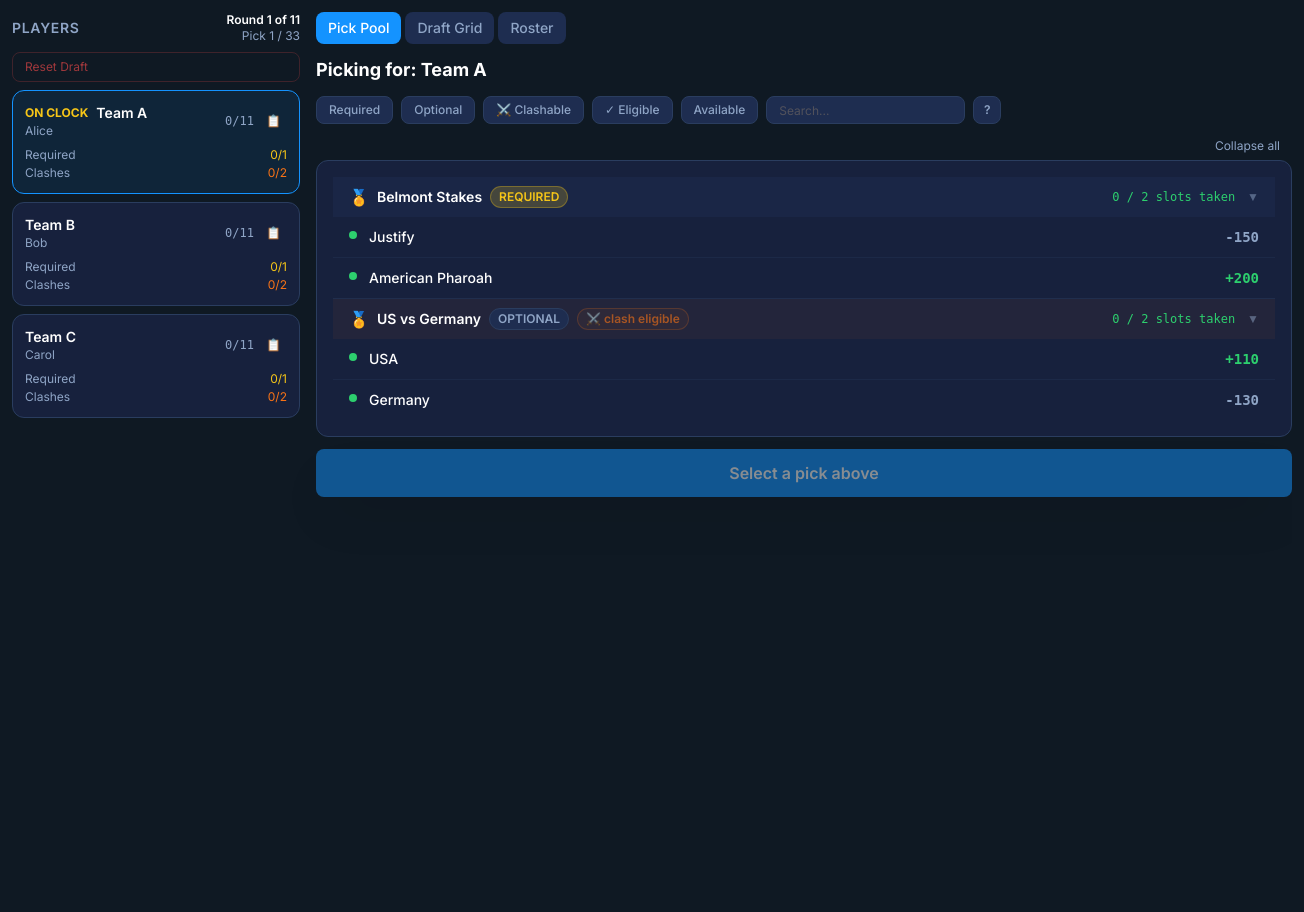
Test: DraftBoard › clicking roster button switches to roster tab for that player
Note: Team B's roster button is the second one (index 1)
Click the button titled "View roster" in the row of "Team B" at (274, 233), box [260,223,287,243]
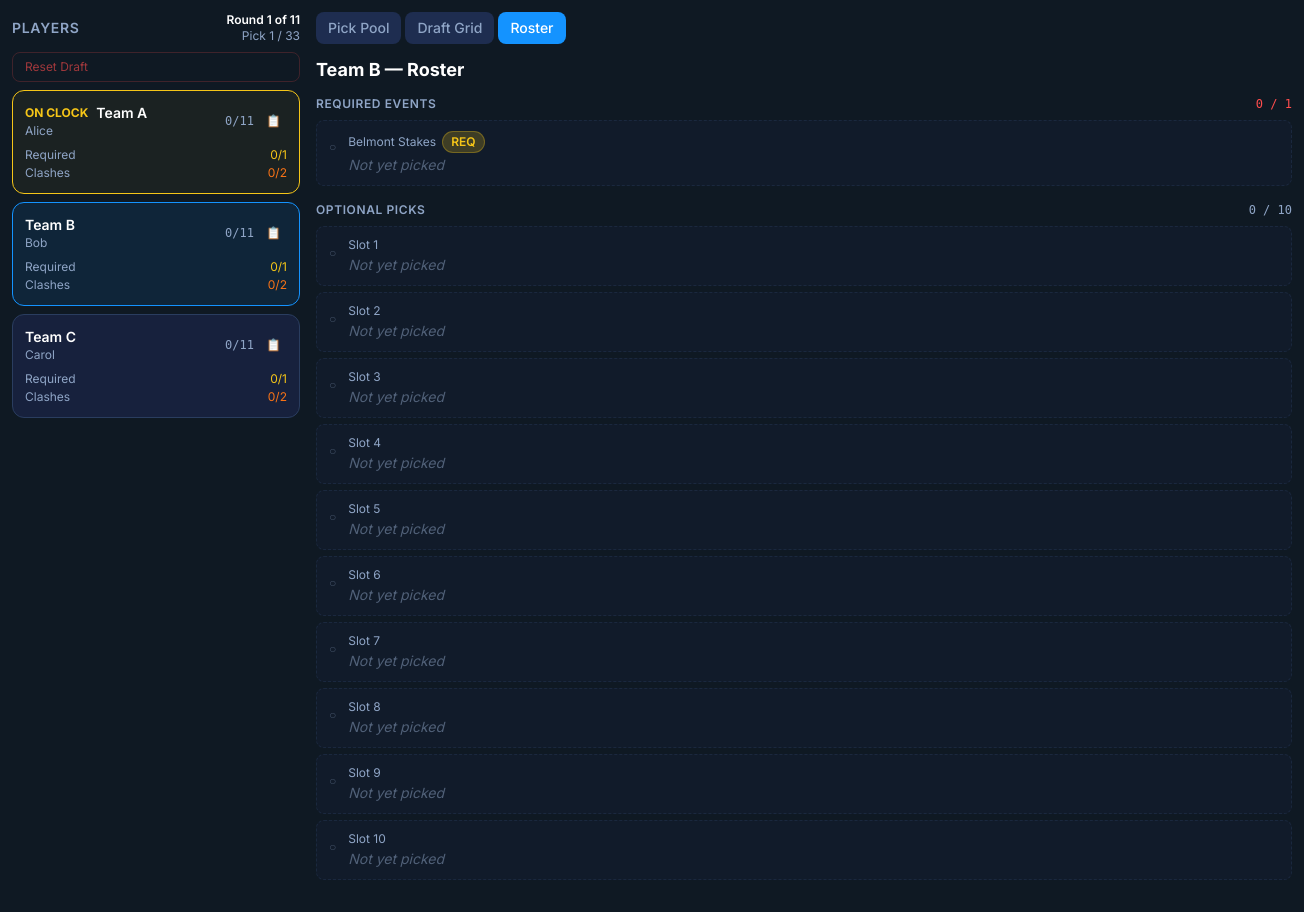
Expected: the heading "Team B — Roster" is shown, [316,59,464,80]
